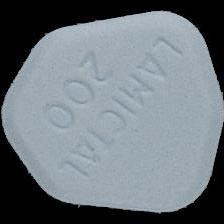54868-4916: (0, 0, 224, 224)
